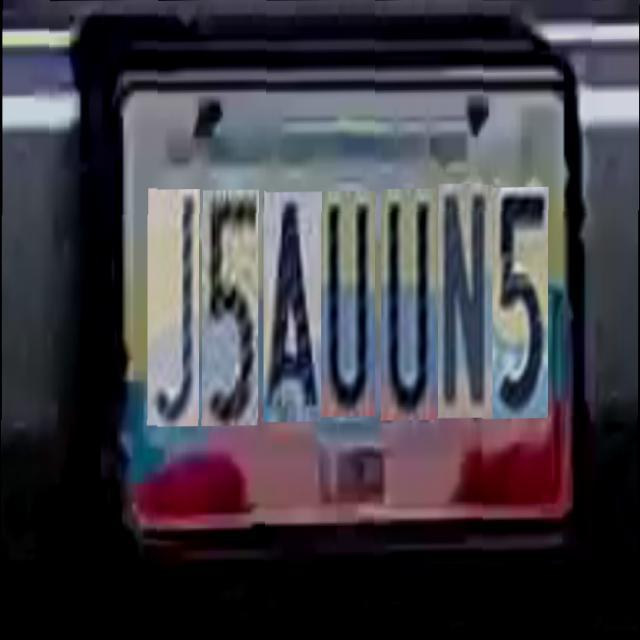5: (202, 190, 258, 426), (492, 182, 547, 414)
A: (262, 190, 320, 420)
J: (146, 188, 198, 426)
N: (437, 180, 492, 416)
U: (380, 185, 435, 418), (320, 189, 374, 415)
